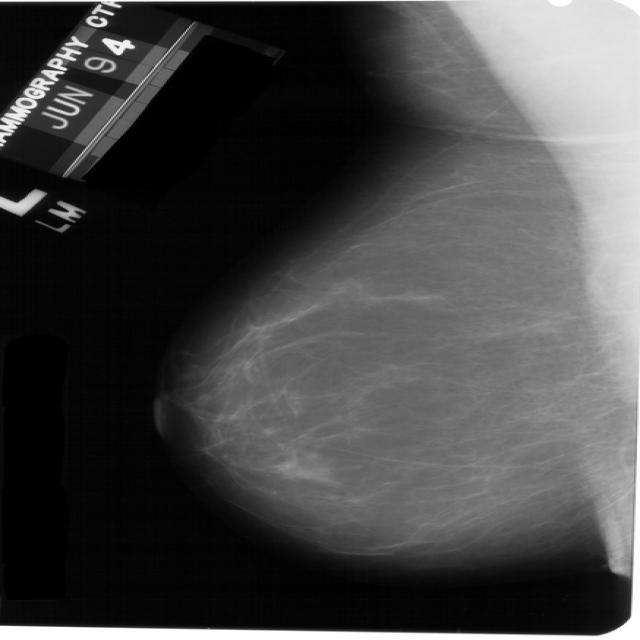tumour: (277, 458, 325, 479)
